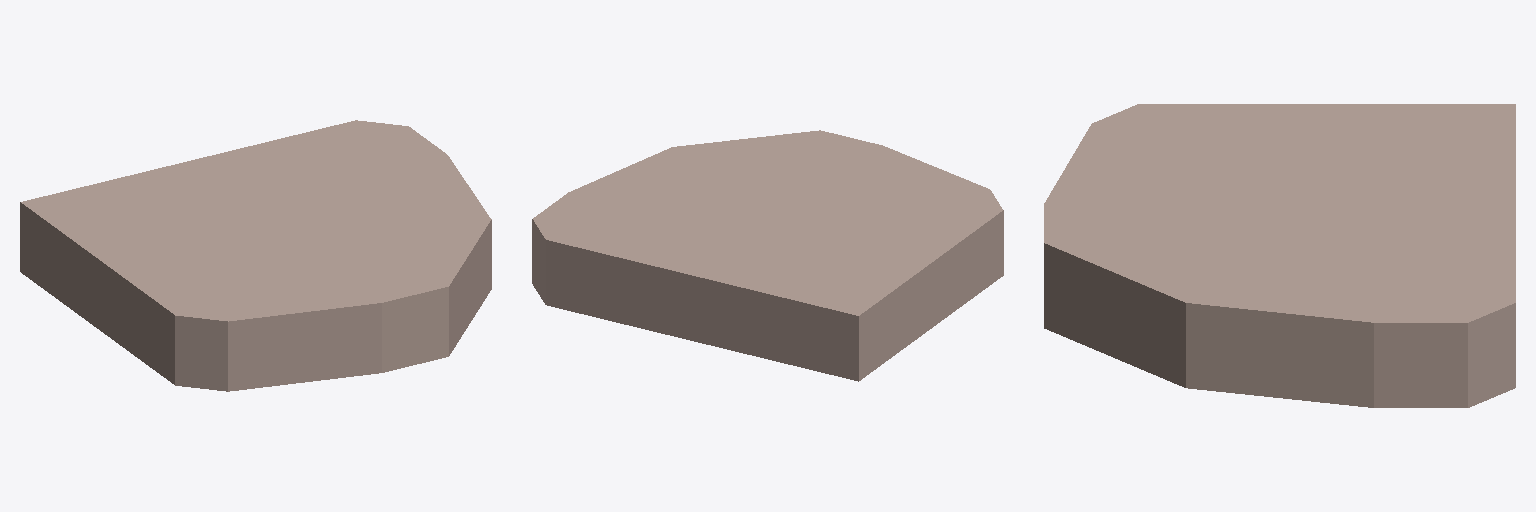
URDF robot description (table):
<?xml version="1.0"?>
<robot name="table">
  <!-- The table top of Paperback on a quilt: a static convex slab, top face at z = 0. Load with a fixed base -->
  <mujoco>
    <compiler meshdir="../meshes/" discardvisual="true" balanceinertia="true" fusestatic="false" />
  </mujoco>
  <link name="table">
    <inertial>
      <mass value="20" />
      <inertia ixx="1" ixy="0" ixz="0" iyy="1" iyz="0" izz="1" />
    </inertial>
    <visual>
      <geometry>
        <mesh filename="../meshes/table.obj" />
      </geometry>
      <material name="table_color">
        <color rgba="0.761 0.682 0.647 1" />
      </material>
    </visual>
    <collision>
      <geometry>
        <mesh filename="../meshes/table.obj" />
      </geometry>
    </collision>
    <contact>
      <lateral_friction value="1" />
    </contact>
  </link>
</robot>

--- What the picture shows (computed from the rendered views, not written in the file) ---
The picture shows the robot from 3 angles, left to right: view 1: azimuth 30°, elevation 25°; view 2: azimuth 150°, elevation 25°; view 3: azimuth 270°, elevation 25°; orthographic projection.
Robot: table — 1 links, 0 joints (none); root link table; default pose: every joint at zero.
Visible links, largest first — view 1: table; view 2: table; view 3: table.
Link boxes in pixels (x1,y1,x2,y2): table: [20, 120, 491, 391]; table: [532, 130, 1003, 381]; table: [1044, 104, 1515, 407].
Size in the robot's own frame: 0.22 by 0.2 by 0.04 metres.
Meshes: 1 distinct files referenced, 1 mesh visuals loaded (1 OBJ).
